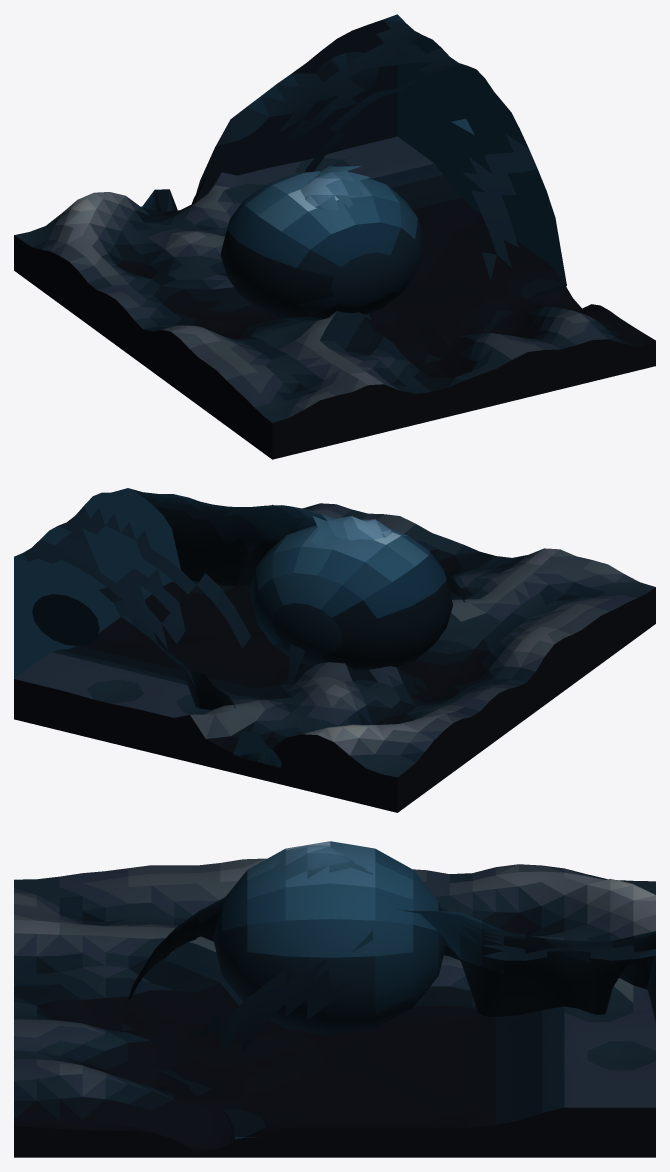
File: gyges_brood_bl.glb
The picture shows the model from 3 angles, top to bottom: view 1: azimuth 30°, elevation 25°; view 2: azimuth 150°, elevation 25°; view 3: azimuth 270°, elevation 25°; orthographic projection. The views are drawn at different scales.
Parts seen in each view (by area): view 1: gyges_brood_bl_brood_wall, gyges_brood_bl_brood_body, gyges_brood_bl_brood_sac5, gyges_brood_bl_brood_sac3; view 2: gyges_brood_bl_brood_wall, gyges_brood_bl_brood_body, gyges_brood_bl_brood_sac5, gyges_brood_bl_brood_sac3; view 3: gyges_brood_bl_brood_wall, gyges_brood_bl_brood_sac5, gyges_brood_bl_brood_body.
Boxes of the visible parts, x1,y1,x2,y2 form: gyges_brood_bl_brood_wall: [14, 136, 655, 459]; gyges_brood_bl_brood_body: [141, 14, 566, 363]; gyges_brood_bl_brood_sac5: [220, 171, 424, 321]; gyges_brood_bl_brood_sac3: [318, 51, 379, 102]; gyges_brood_bl_brood_wall: [14, 503, 655, 812]; gyges_brood_bl_brood_body: [14, 488, 466, 767]; gyges_brood_bl_brood_sac5: [249, 525, 452, 670]; gyges_brood_bl_brood_sac3: [32, 594, 99, 645]; gyges_brood_bl_brood_wall: [14, 858, 655, 1157]; gyges_brood_bl_brood_sac5: [213, 841, 446, 1035]; gyges_brood_bl_brood_body: [121, 845, 655, 1138].
Size of the model in its own units: 23.98 by 10.14 by 27.98.
